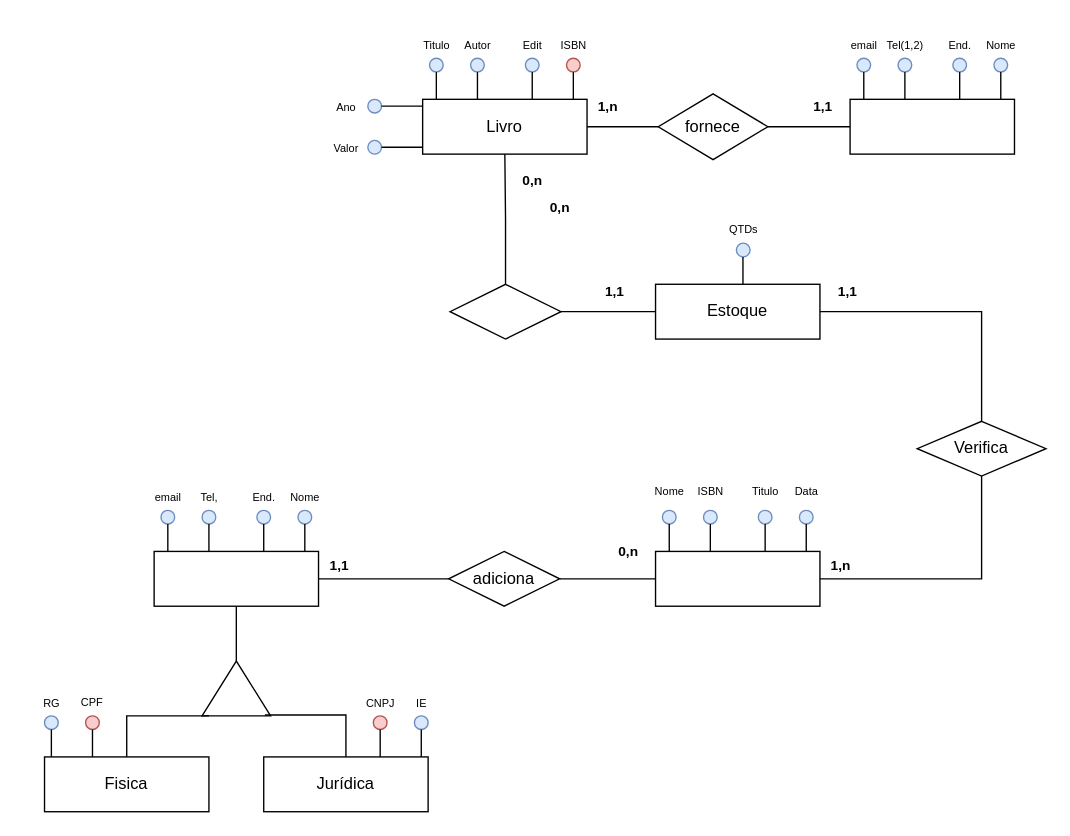
Some shapes in this 1070 by 836 pixel diagram are drawn without their labels. The shapes that lost their labels are listed below. From the top down, each one's box as (x1, y1, x2, y2) in pixels, then its label:
(849, 98, 1014, 154): Editora
(449, 283, 561, 339): contem
(153, 550, 319, 606): Pessoa
(654, 550, 820, 606): pedido
